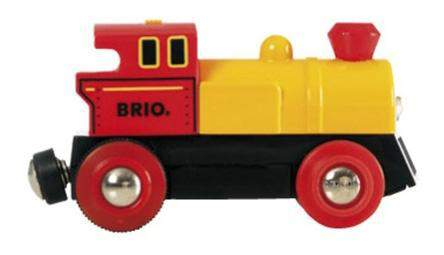brio: (24, 17, 428, 231)
